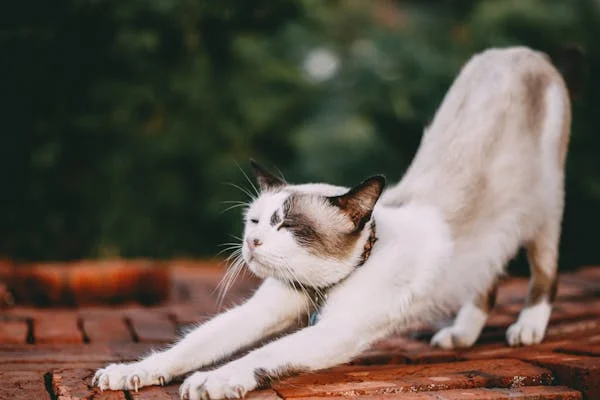Cat: (93, 45, 570, 400)
